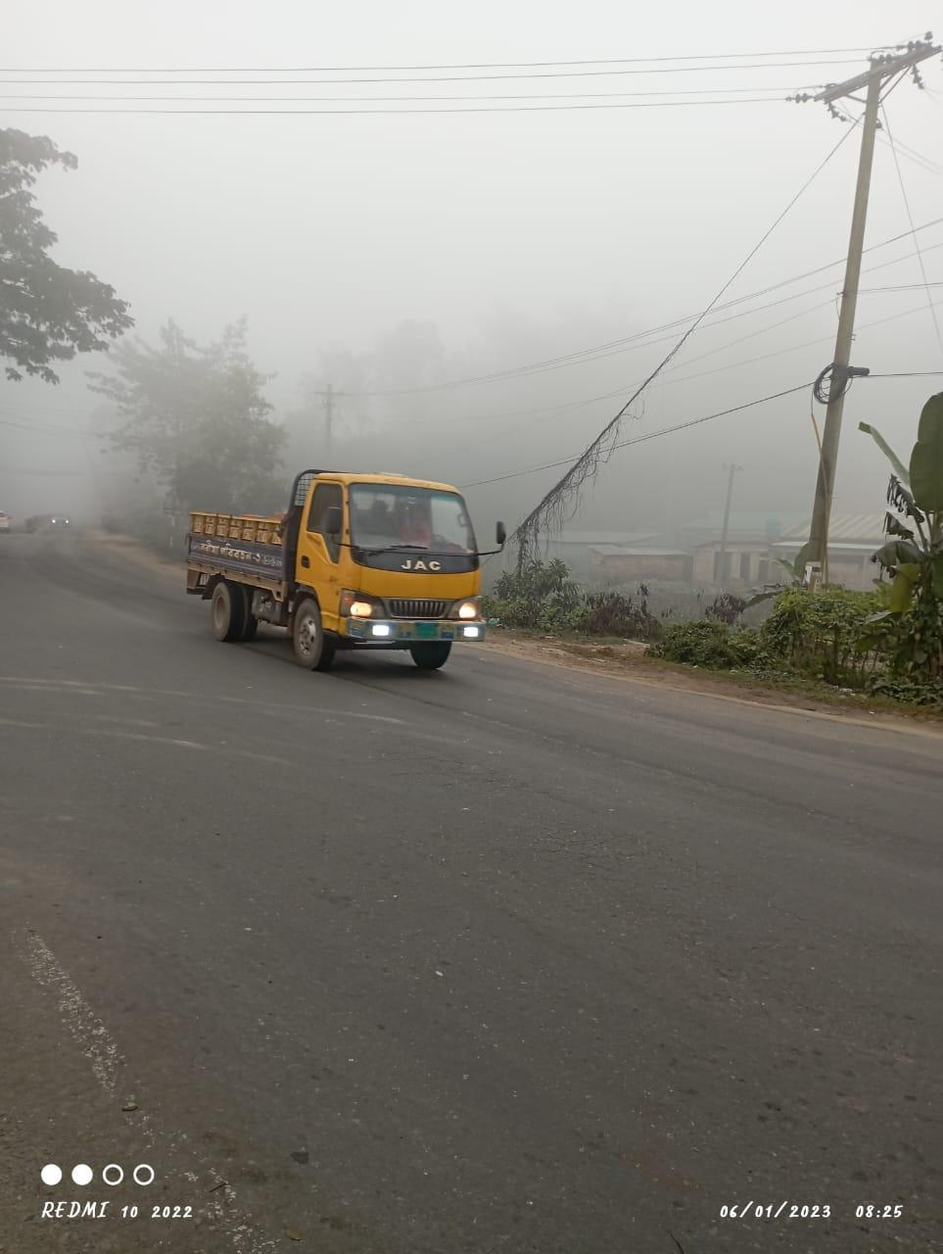Truck: (173, 466, 513, 674)
